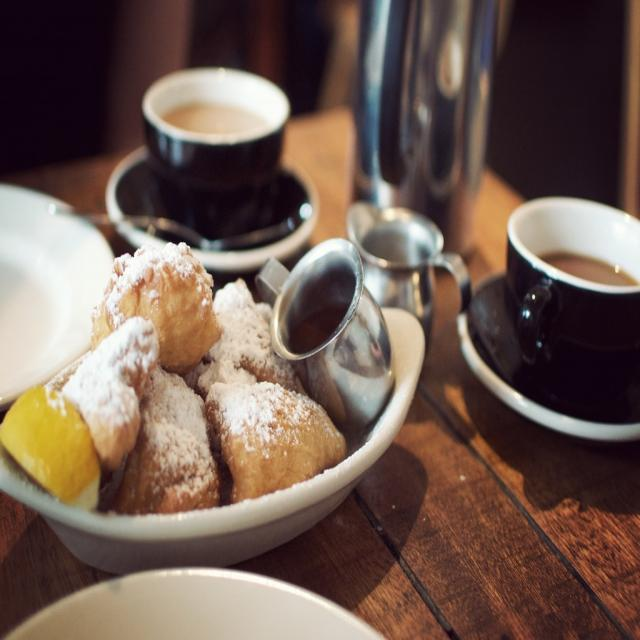Coffee: (496, 200, 635, 398), (164, 97, 272, 134)
Tea: (538, 250, 638, 288), (161, 96, 262, 130)
